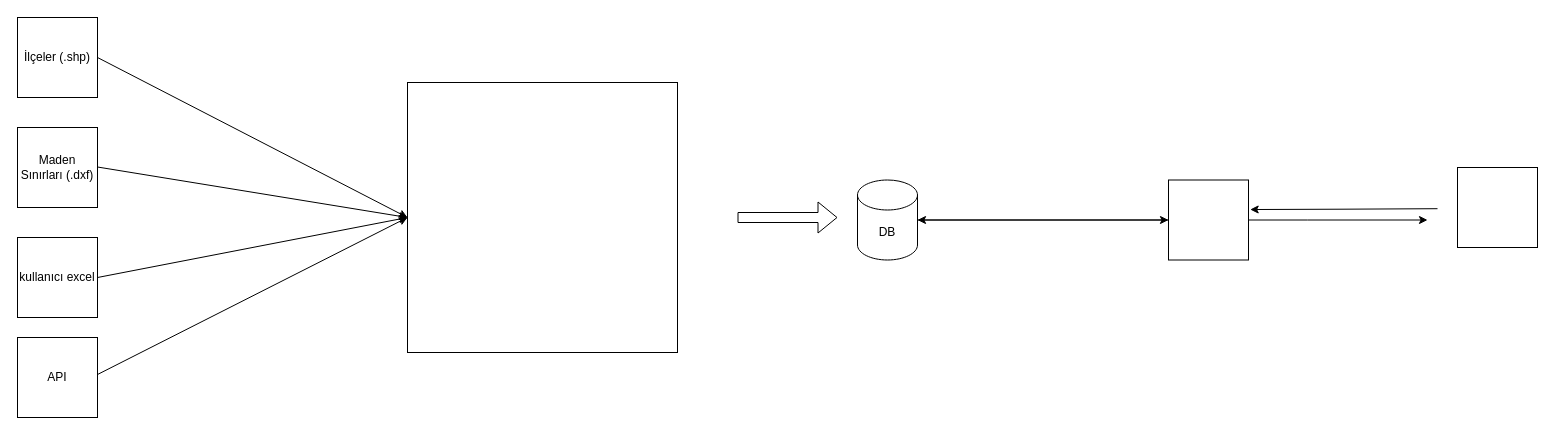
The diagram is 1555 pixels wide and 435 high, and some of its shapes have lost their labels. The centre of each missing label's shape, as x and y in pixels:
"Console App" goes at (542,217).
"GeoServer" goes at (1208,219).
"User Interface" goes at (1497,207).
